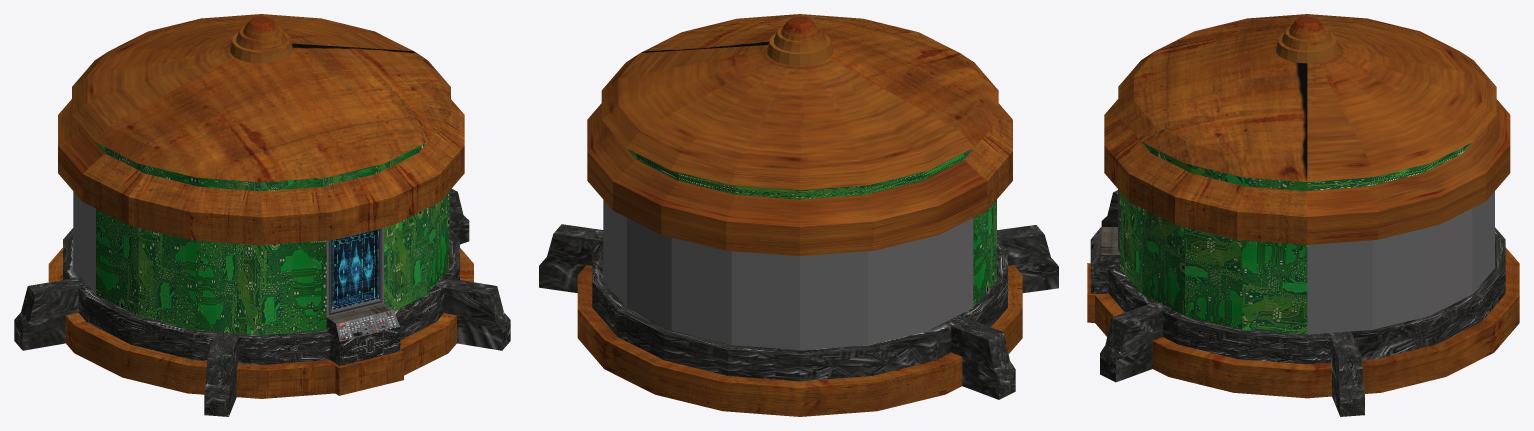
Rendered from Space_Generator_Bottom.FBX.
The picture shows the model from 3 angles, left to right: view 1: azimuth 30°, elevation 25°; view 2: azimuth 150°, elevation 25°; view 3: azimuth 270°, elevation 25°; orthographic projection. The views are drawn at different scales.
Parts seen in each view (by area): view 1: Cylinder001; view 2: Cylinder001; view 3: Cylinder001.
Boxes of the visible parts, x1=… form: Cylinder001: x1=14, y1=14, x2=510, y2=416; Cylinder001: x1=539, y1=14, x2=1058, y2=416; Cylinder001: x1=1087, y1=14, x2=1519, y2=416.
Size of the model in its own units: 16.72 by 10.31 by 14.04.
